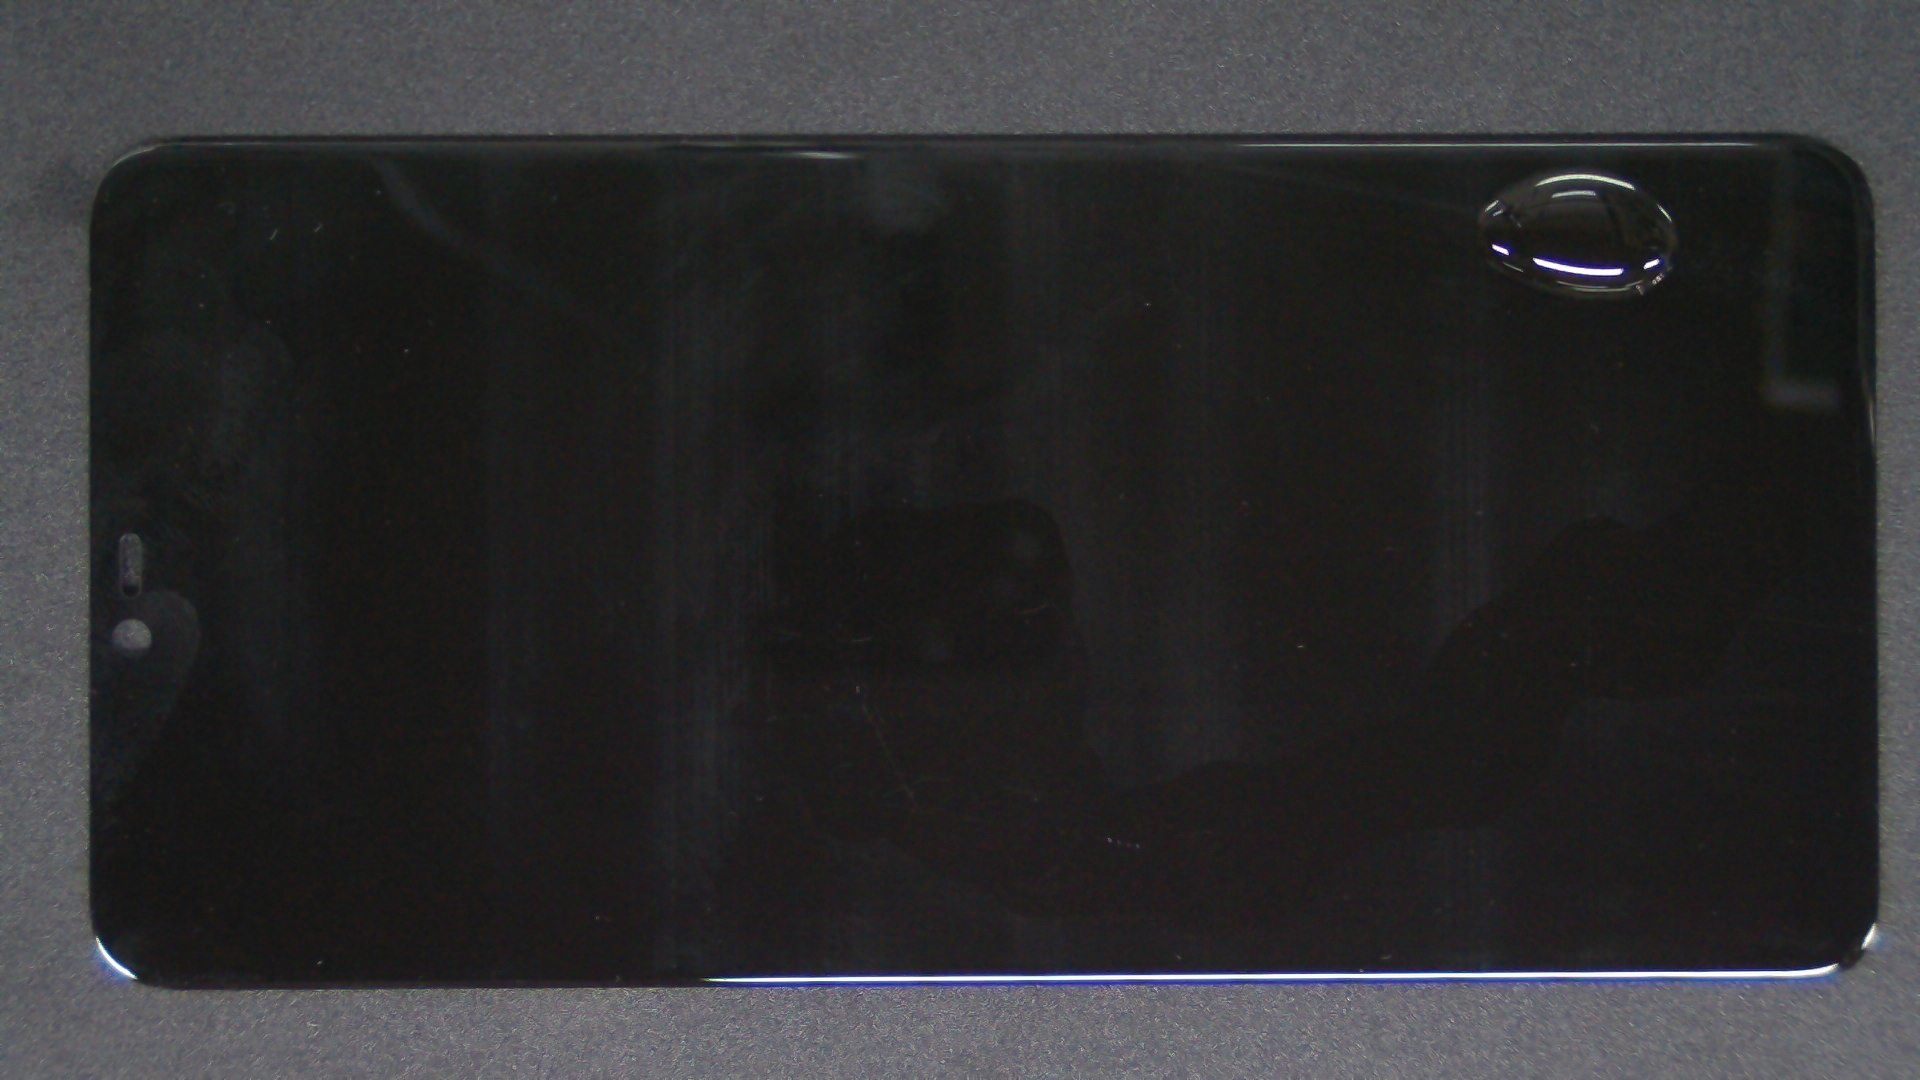oil: (785, 83, 1920, 251)
